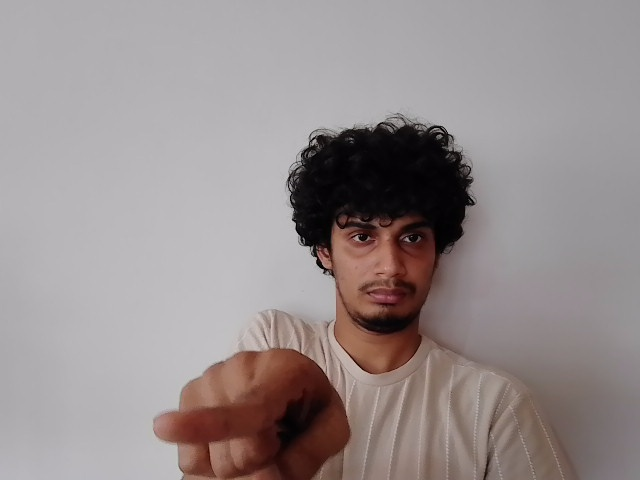you: (143, 348, 359, 480)
